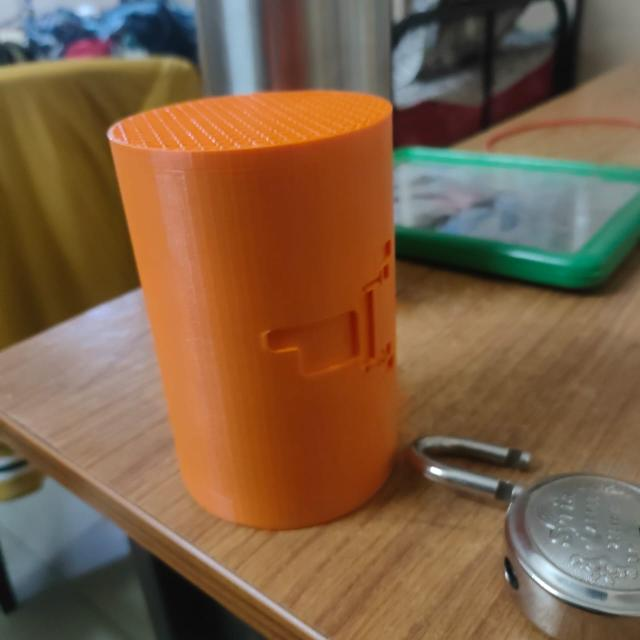Cylinder: (105, 87, 401, 531)
